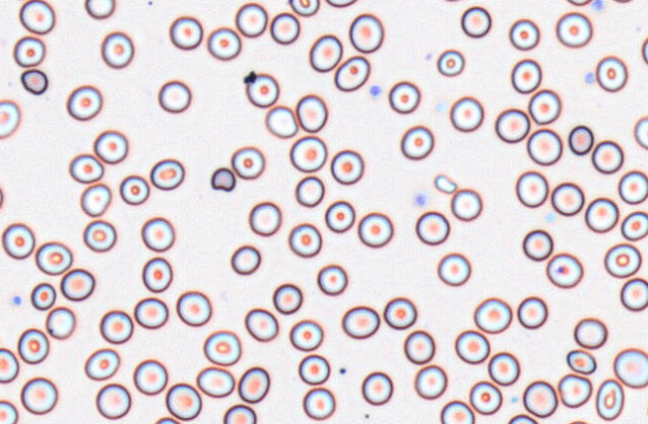PLT: (413, 192, 428, 208), (369, 85, 383, 100), (583, 71, 597, 84), (593, 0, 604, 15), (11, 294, 23, 307)
RBC: (20, 376, 57, 415), (613, 347, 648, 388), (289, 135, 327, 172), (203, 329, 241, 366), (522, 379, 558, 418), (473, 297, 512, 333), (348, 13, 383, 53), (165, 382, 201, 420), (603, 242, 641, 278), (545, 252, 583, 288), (95, 382, 131, 419), (526, 128, 562, 165), (132, 358, 168, 395), (555, 11, 592, 47), (494, 107, 530, 143), (175, 290, 211, 326), (334, 55, 370, 91), (66, 84, 102, 120), (357, 211, 393, 247), (100, 30, 134, 68), (341, 305, 379, 339), (309, 33, 342, 72), (584, 197, 619, 233), (140, 216, 175, 252), (18, 0, 55, 34), (1, 222, 35, 259), (35, 241, 72, 275), (449, 95, 483, 132), (196, 366, 235, 398), (295, 93, 327, 132), (557, 373, 592, 408), (454, 329, 489, 364), (93, 129, 128, 164), (59, 267, 95, 301), (330, 149, 364, 185), (237, 366, 270, 403), (515, 170, 548, 207), (595, 55, 628, 92), (595, 378, 624, 420), (245, 72, 279, 107), (415, 210, 449, 245), (550, 181, 584, 216), (413, 364, 447, 399), (400, 125, 434, 160), (230, 145, 265, 179), (468, 380, 502, 415), (99, 309, 133, 344), (84, 347, 120, 380), (528, 88, 561, 124), (17, 327, 49, 364), (207, 26, 241, 60), (244, 307, 278, 341), (169, 15, 203, 49), (437, 252, 471, 286), (157, 79, 191, 113), (288, 222, 321, 257), (133, 296, 168, 329), (248, 201, 281, 236), (82, 219, 116, 252), (264, 105, 298, 138), (487, 351, 520, 385), (302, 386, 335, 420), (403, 329, 435, 364), (235, 2, 267, 37), (591, 139, 623, 174), (141, 256, 172, 292), (383, 296, 416, 329), (573, 317, 607, 349), (361, 371, 393, 405), (289, 319, 323, 351), (150, 158, 184, 190), (510, 58, 541, 93), (80, 182, 111, 217), (450, 188, 482, 221), (12, 35, 45, 67), (388, 80, 420, 113), (516, 295, 547, 329), (68, 153, 103, 183), (298, 353, 330, 385), (522, 228, 553, 261), (460, 5, 491, 38), (45, 305, 75, 339), (618, 170, 648, 204), (269, 12, 300, 44), (324, 200, 355, 232), (316, 263, 347, 295), (508, 18, 539, 50), (230, 244, 261, 275), (294, 175, 324, 207), (272, 282, 302, 314), (620, 277, 648, 311), (119, 174, 149, 205), (620, 210, 648, 241), (567, 124, 594, 155), (439, 400, 474, 423), (0, 99, 20, 139), (436, 48, 464, 76), (566, 348, 596, 374), (30, 282, 56, 310), (0, 347, 19, 383), (222, 403, 256, 423), (84, 0, 115, 19), (288, 0, 319, 16), (634, 115, 648, 149), (0, 399, 18, 423), (507, 413, 538, 423), (325, 0, 357, 7), (153, 416, 181, 424), (641, 35, 648, 64), (565, 0, 593, 6), (564, 419, 591, 424), (0, 183, 4, 211), (611, 0, 635, 3), (437, 0, 468, 2)
Schistocyte: (19, 68, 48, 96), (211, 167, 237, 193), (433, 174, 459, 194)
